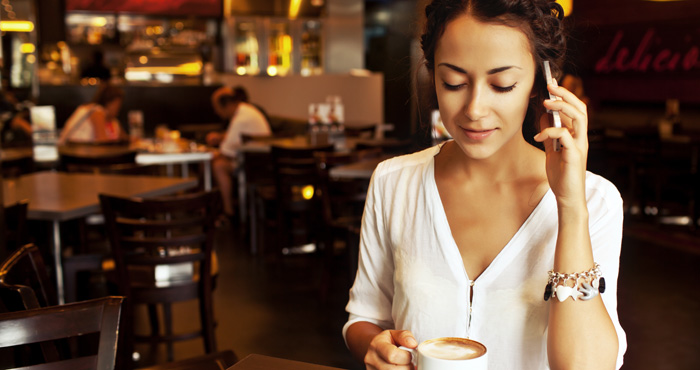phone: (525, 56, 591, 164)
talk: (431, 55, 594, 192)
